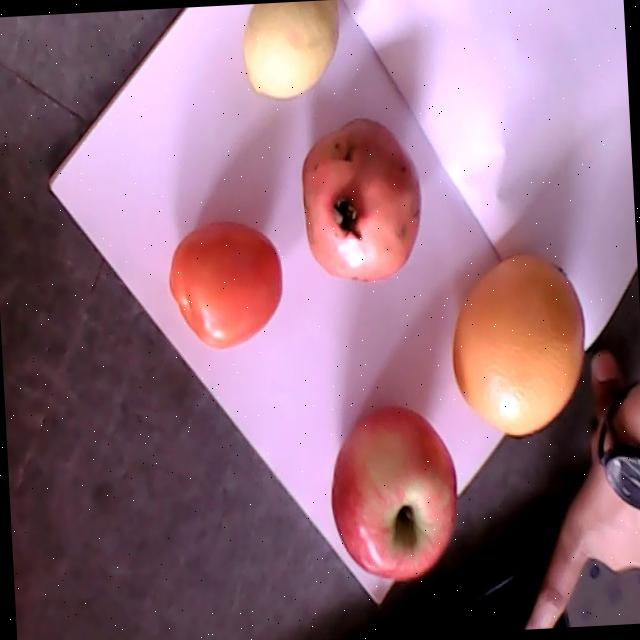apple: (330, 405, 456, 581)
lemon: (242, 2, 338, 99)
orange: (453, 255, 583, 435)
pomegranate: (301, 117, 420, 282)
tomato: (168, 222, 281, 348)
